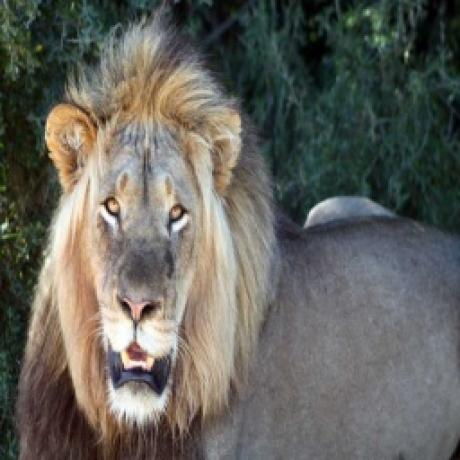Lion: (11, 9, 460, 460)
